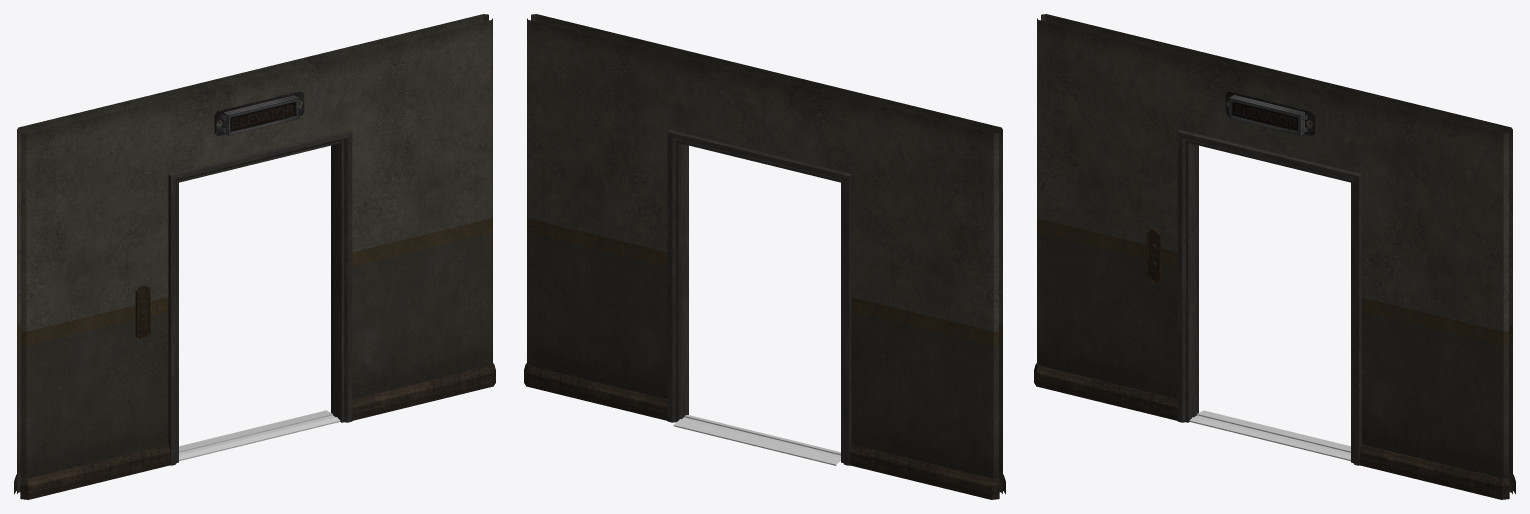
Rendered from elevator_doorway_1.obj.
3 renders of one model, left to right at view 1: azimuth 30°, elevation 25°; view 2: azimuth 150°, elevation 25°; view 3: azimuth 330°, elevation 25°, orthographic.
Parts seen in each view (by area): view 1: elevator_doorway_1; view 2: elevator_doorway_1; view 3: elevator_doorway_1.
Part boxes in pixels (x1,y1,x2,y2): elevator_doorway_1: (14,14,495,499); elevator_doorway_1: (524,14,1005,499); elevator_doorway_1: (1034,14,1515,499).
Bounding box in the file's own units: 4.09 × 3 × 0.29.
